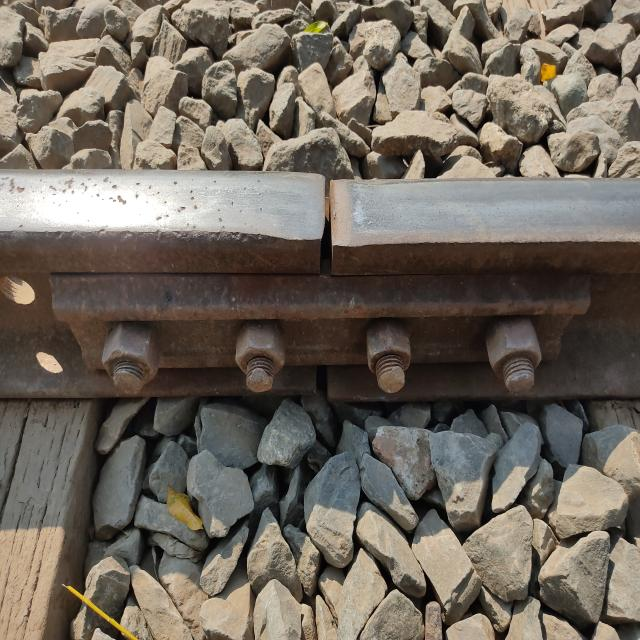Faults: (307, 162, 344, 277), (3, 258, 45, 320), (27, 346, 74, 384)
